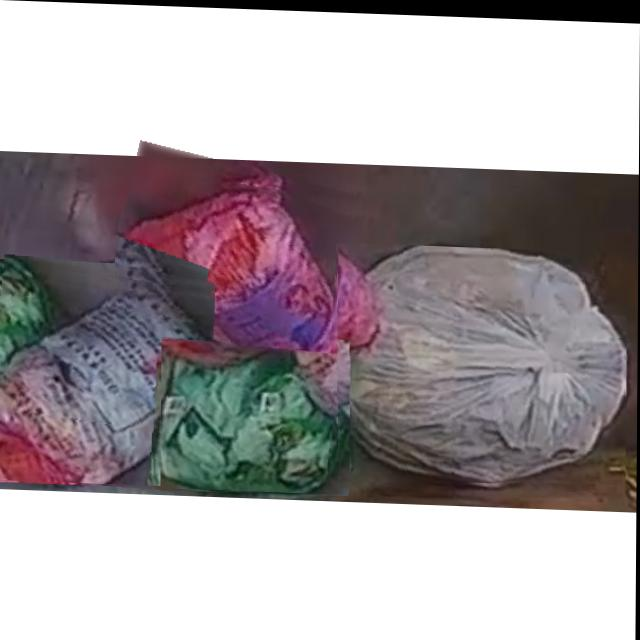general_trashbag: (161, 346, 347, 491)
other_trashbag: (338, 244, 626, 481), (116, 183, 359, 375), (0, 278, 213, 483)
